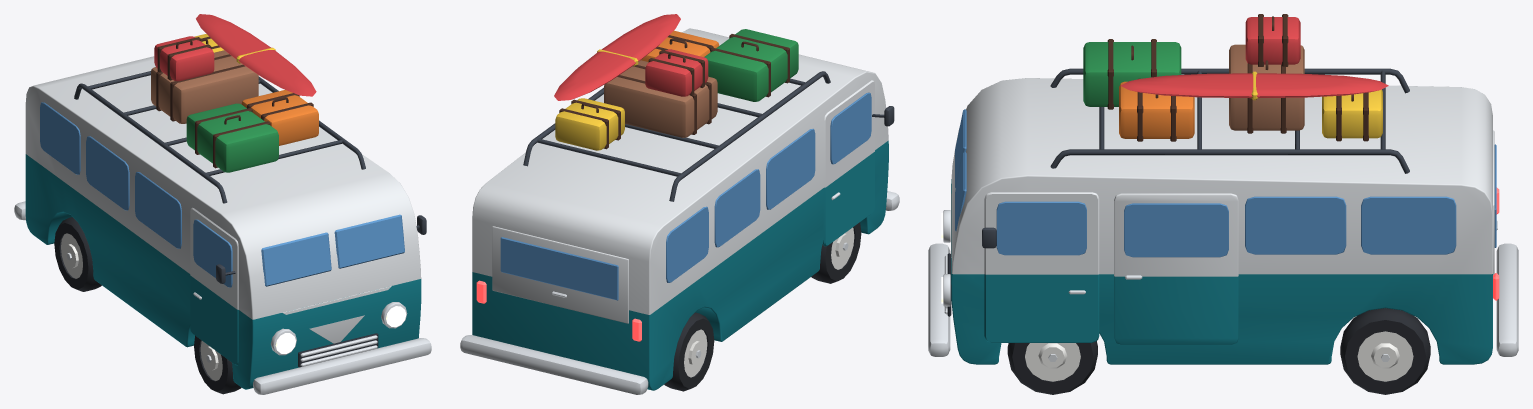
Rendered from kombi_viagem.glb.
3 views of the same model, side by side, from view 1: azimuth 30°, elevation 25°; view 2: azimuth 150°, elevation 25°; view 3: azimuth 270°, elevation 25° (orthographic). The views are drawn at different scales.
Parts seen in each view (by area): view 1: kombi_viagem, porta_1, roda_2, roda_1; view 2: kombi_viagem, tampa_1, porta_1, roda_2, roda_1; view 3: kombi_viagem, porta_correr, porta_2, roda_4, roda_3.
Boxes of the visible parts, x1,y1,x2,y2 form: kombi_viagem: (14,14,431,394); porta_1: (190,207,238,365); roda_2: (54,217,101,291); roda_1: (194,335,241,394); kombi_viagem: (460,14,899,394); tampa_1: (492,226,628,323); porta_1: (822,80,874,246); roda_2: (664,312,714,391); roda_1: (811,222,861,283); kombi_viagem: (928,14,1518,364); porta_correr: (1114,193,1238,344); porta_2: (984,192,1099,342); roda_4: (1340,308,1430,394); roda_3: (1007,341,1097,394).
Size of the model in its own units: 2.32 by 2.88 by 4.83.
4 materials, 1 textured.
